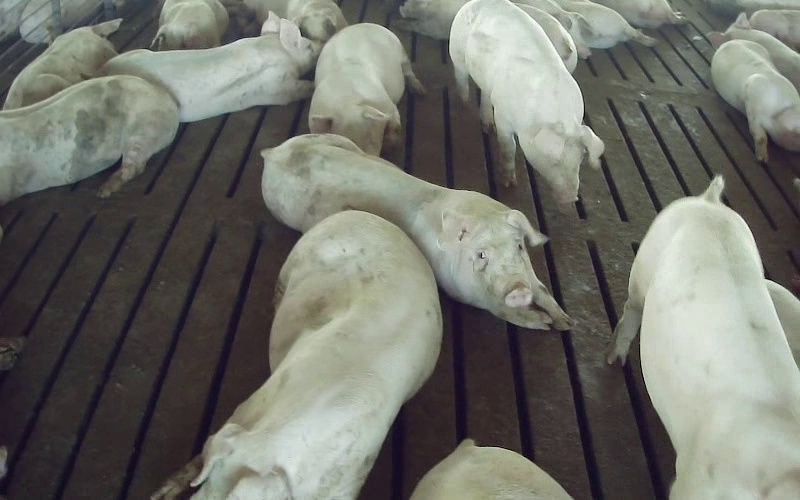pig: (153, 211, 441, 499), (608, 176, 799, 499), (263, 135, 571, 329), (103, 12, 320, 121), (0, 75, 178, 204), (309, 23, 424, 155), (712, 40, 799, 161), (3, 19, 121, 108), (707, 13, 799, 92), (244, 0, 347, 42), (151, 0, 228, 50)
